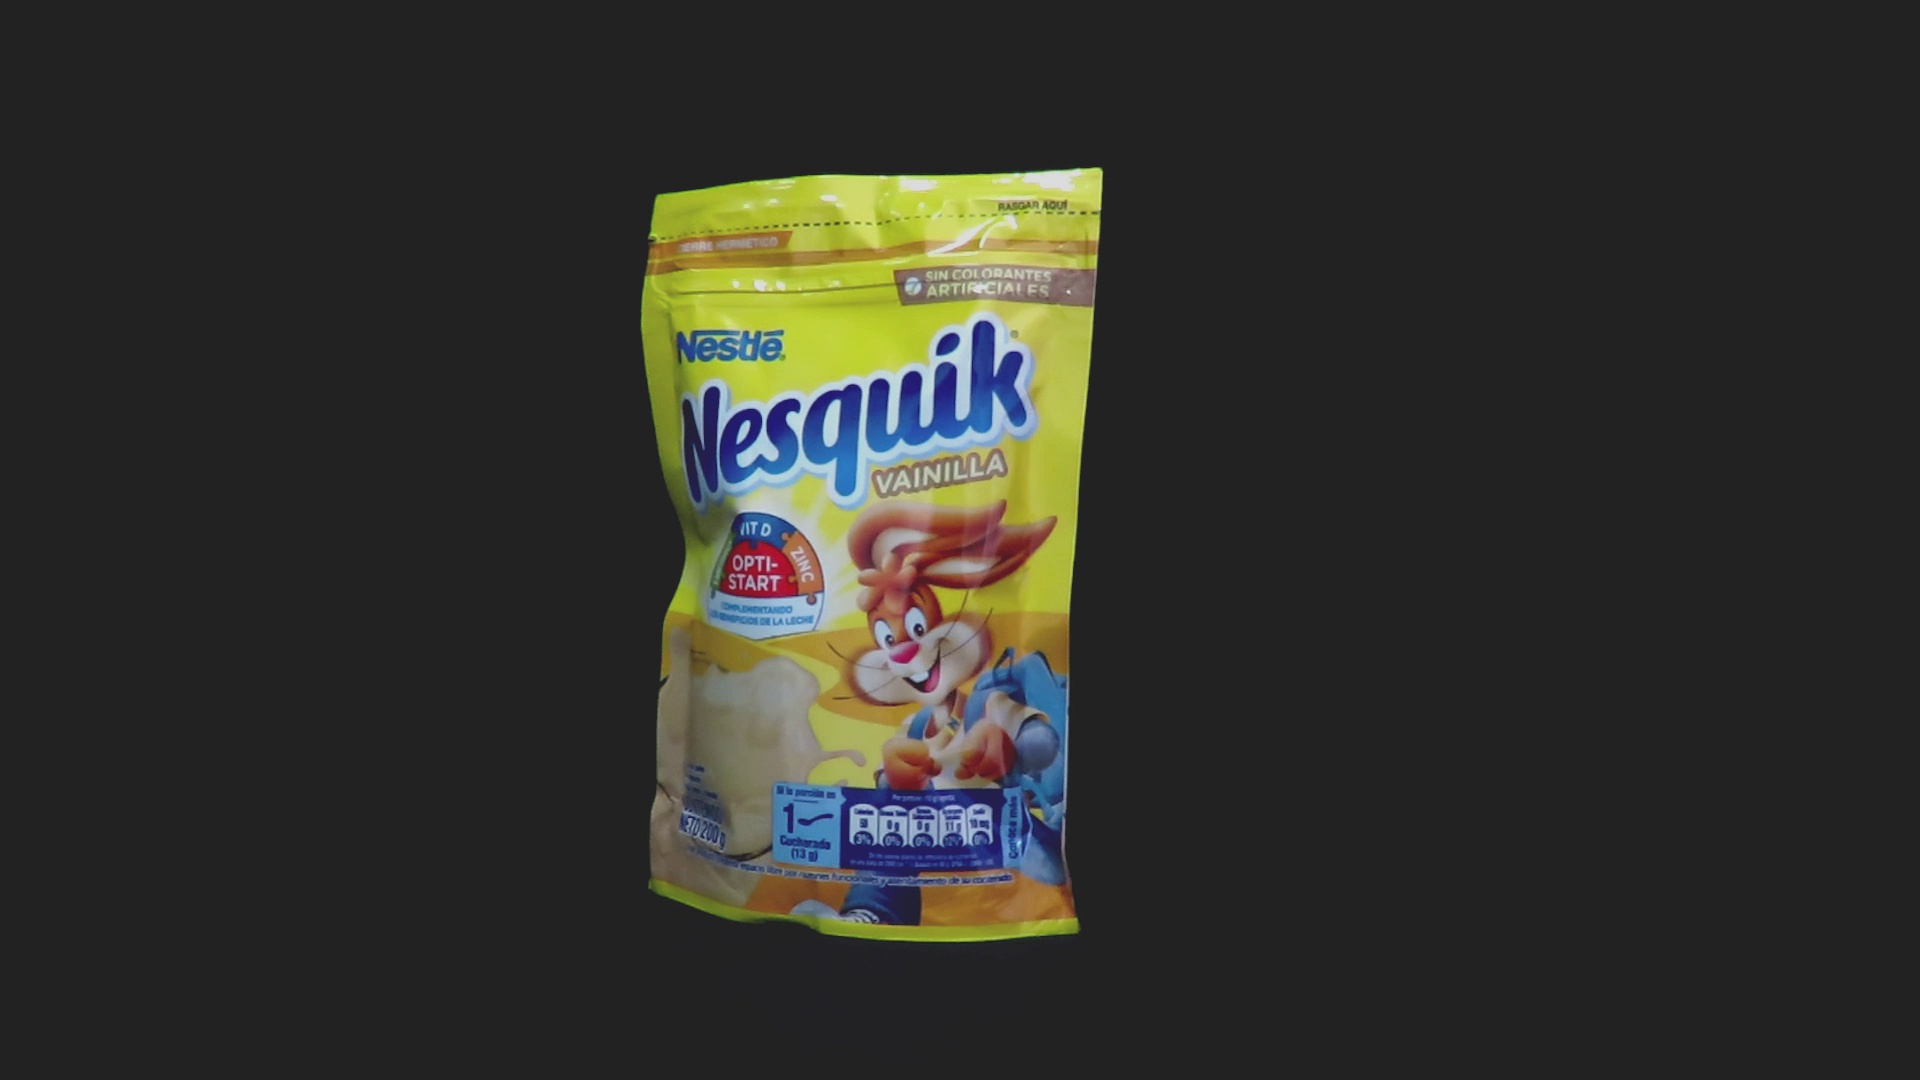COL0170306DYP20000: (636, 162, 1109, 948)
